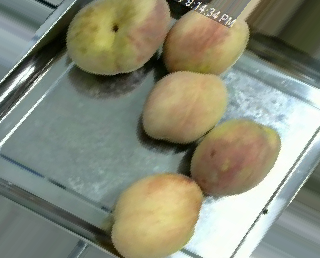Peach: (110, 172, 202, 257), (67, 0, 168, 74), (189, 118, 281, 199), (141, 70, 226, 144), (162, 7, 247, 78)
